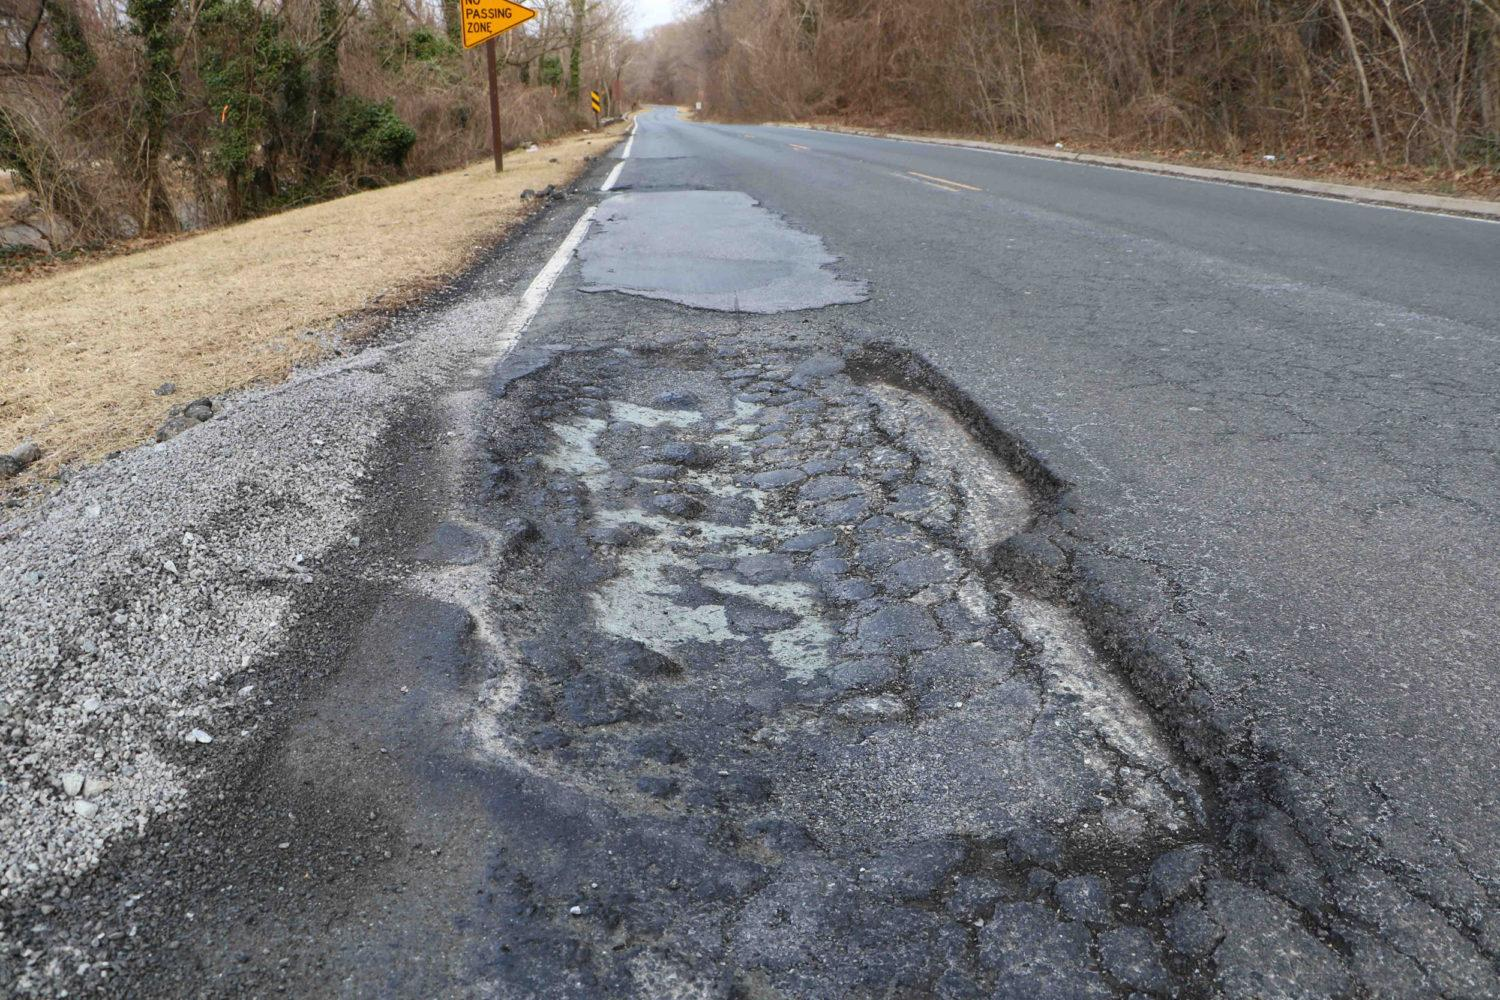Pothole: (475, 342, 1287, 1000)
